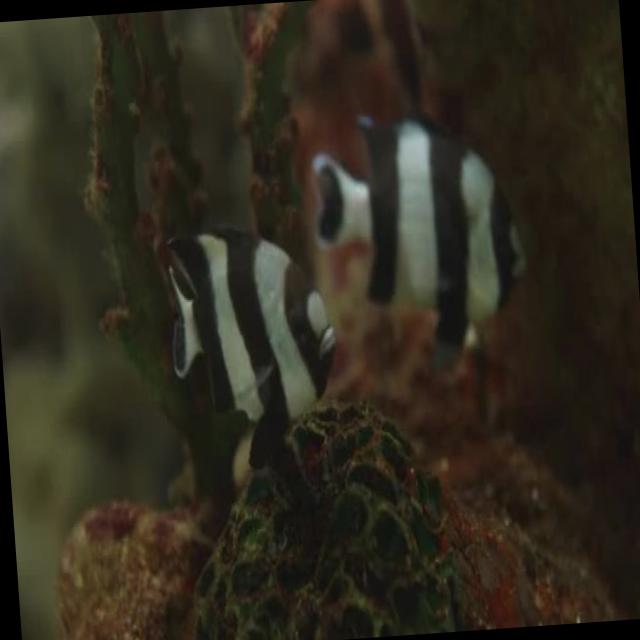ThreeStripedDamselfish: (304, 88, 534, 374), (154, 204, 344, 475)
